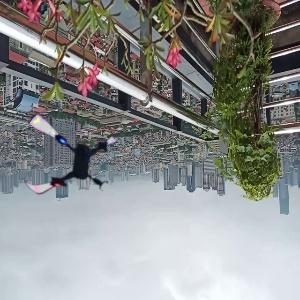drone: (14, 107, 119, 212)
